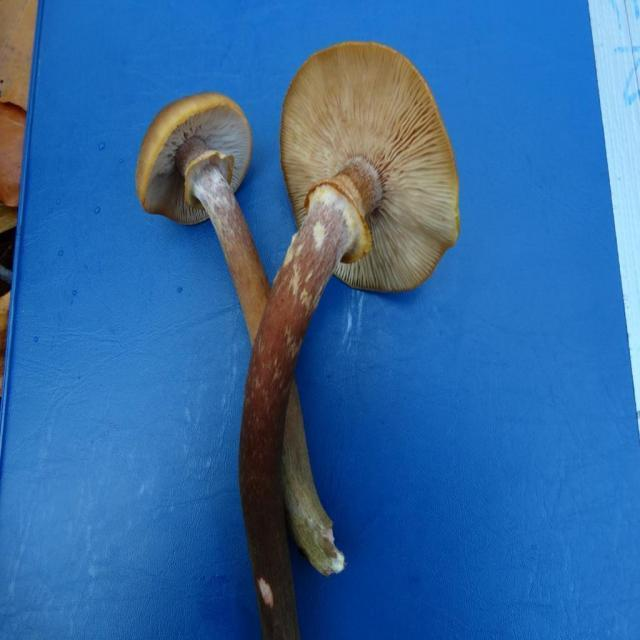Armillaria mellea: (140, 41, 462, 636)
